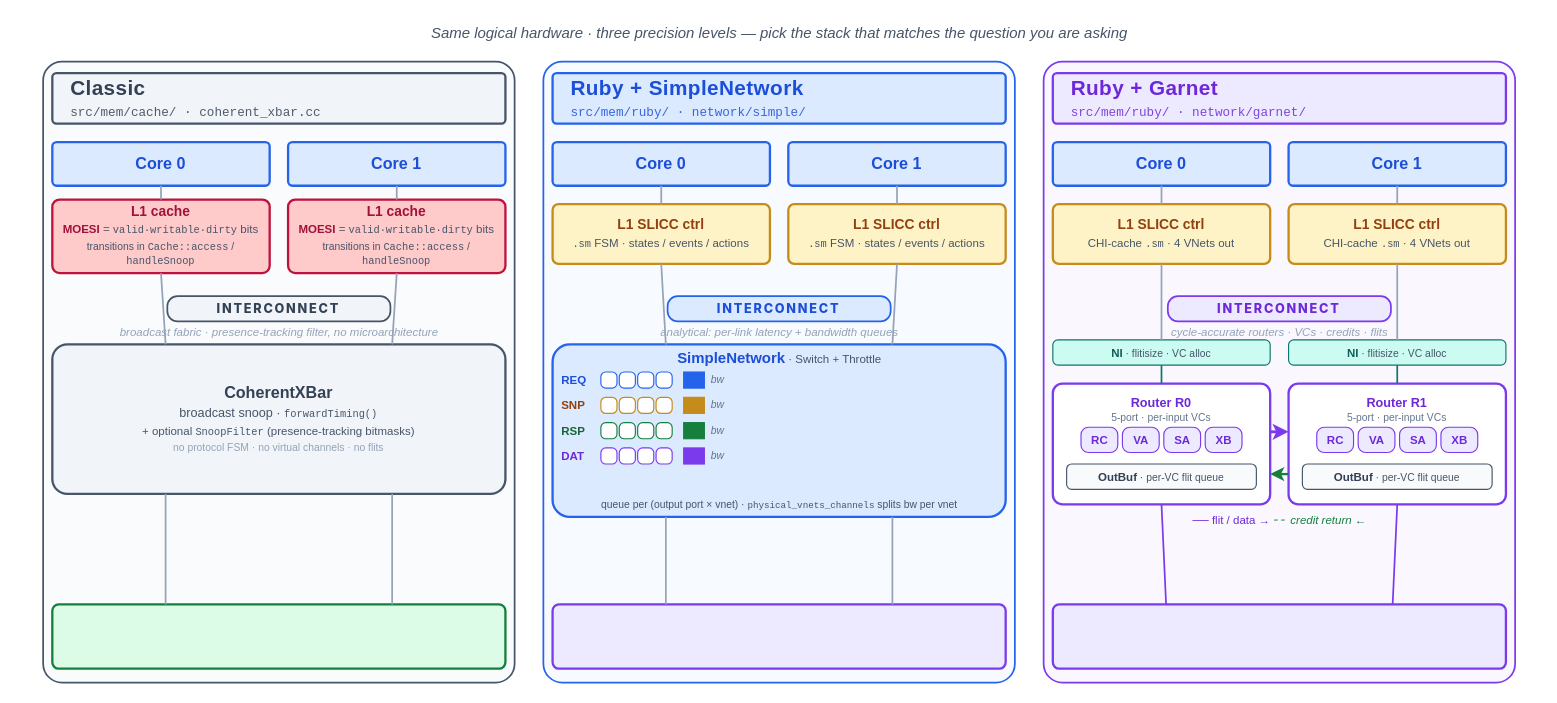
Some shapes in this 1557 by 703 pixel diagram are drawn without their labels. Here are the shapes that lost their labels. From the top down, the centre of each, then its label:
At (278,636): "L2 + Memory Controller DRAM model below".
At (778,636): "HN-F SLICC ctrl + DRAM directory FSM · memory below".
At (1278,636): "HN-F SLICC ctrl · SN-F · DRAM every link is flitised · cycle-by-cycle".
